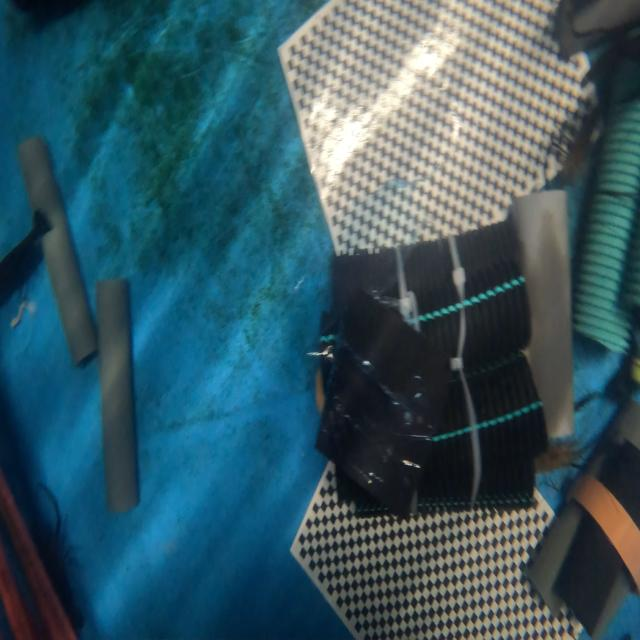prawn: (535, 440, 576, 473)
